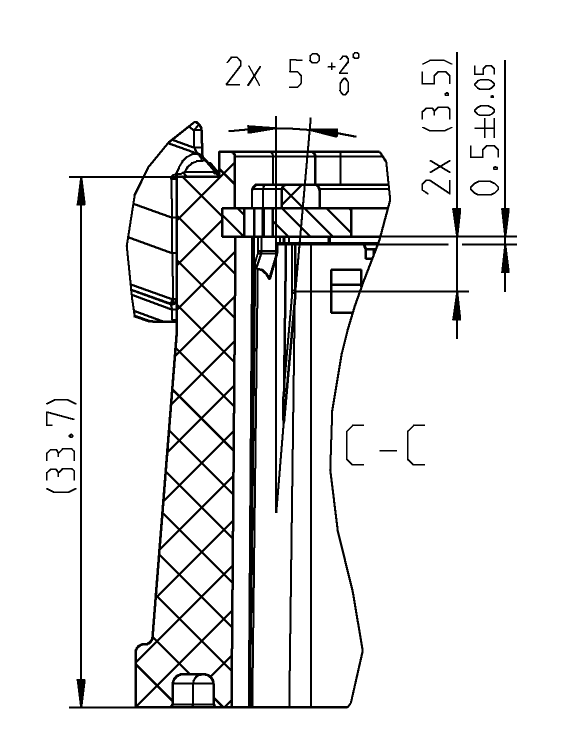falcon_r2: (208, 171, 584, 222), (459, 58, 510, 199)
